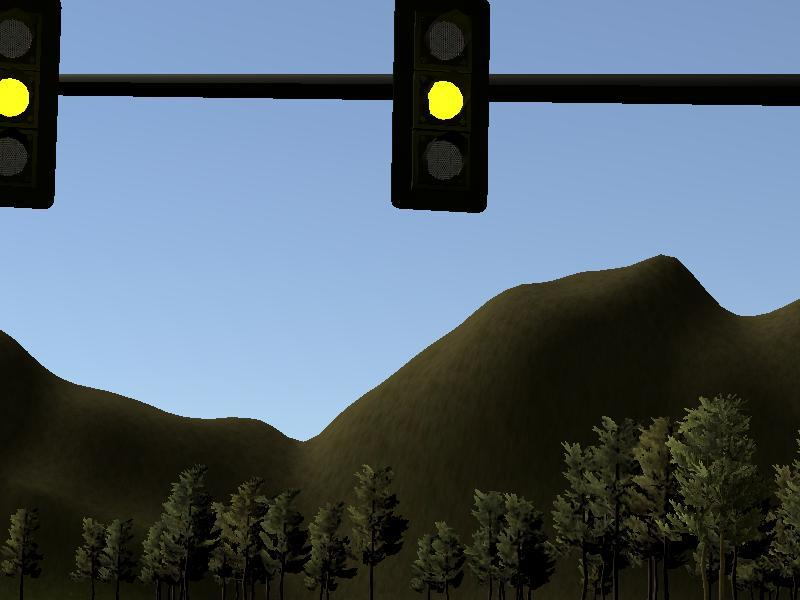Yellow: (390, 1, 490, 213), (1, 1, 60, 209)
